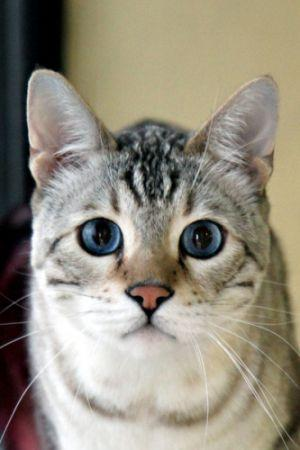bengal: (13, 53, 297, 371)
